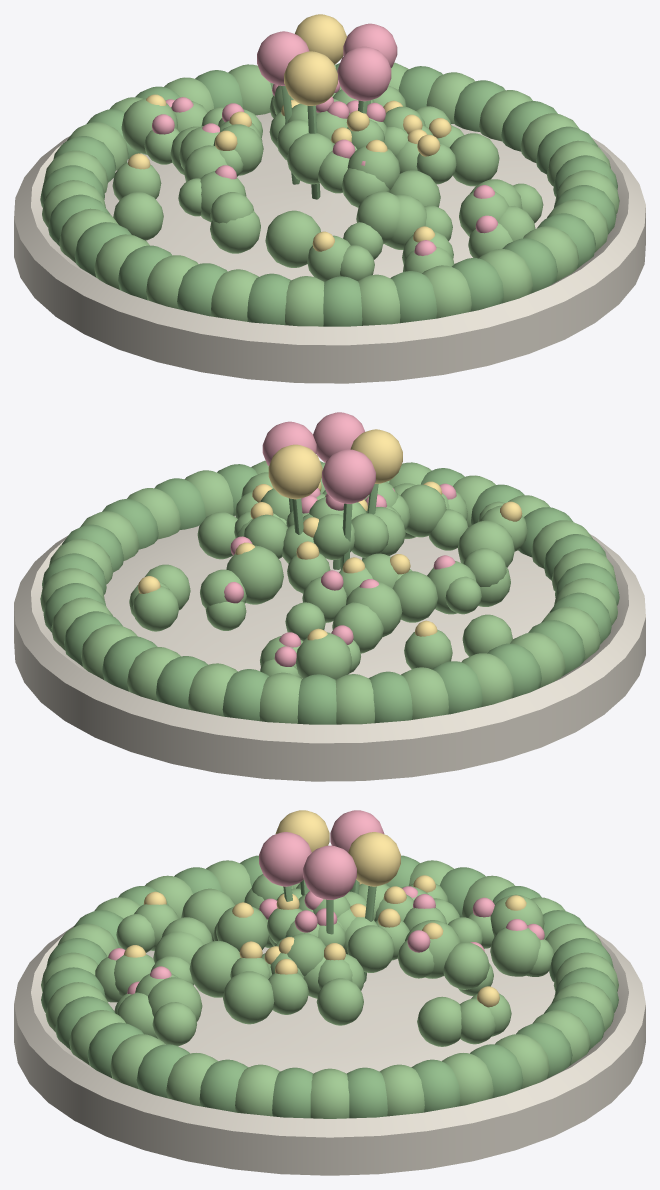
The model's file is th36_rondell.glb.
3 renders of one model, top to bottom at view 1: azimuth 30°, elevation 25°; view 2: azimuth 150°, elevation 25°; view 3: azimuth 270°, elevation 25°, orthographic.
Visible parts, largest first — view 1: Einfassung, Erde, Sphere.155, Sphere.154, Sphere.084, Sphere.144, Sphere.031, Sphere.030, Sphere.029, Sphere.032, Sphere.028, Sphere.033 (+72 smaller); view 2: Einfassung, Erde, Sphere.152, Sphere.153, Sphere.058, Sphere.046, Sphere.015, Sphere.016, Sphere.017, Sphere.014, Sphere.018, Sphere.013 (+65 smaller); view 3: Einfassung, Erde, Sphere.151, Sphere.152, Sphere.155, Sphere.144, Sphere.069, Sphere.103, Sphere, Sphere.138, Sphere.001, Sphere.045 (+67 smaller).
Boxes of the visible parts, x1=… form: Einfassung: x1=14, y1=136, x2=645, y2=383; Erde: x1=104, y1=112, x2=555, y2=280; Sphere.155: x1=337, y1=46, x2=391, y2=101; Sphere.154: x1=284, y1=51, x2=337, y2=105; Sphere.084: x1=265, y1=210, x2=320, y2=267; Sphere.144: x1=449, y1=133, x2=499, y2=186; Sphere.031: x1=323, y1=276, x2=362, y2=326; Sphere.030: x1=285, y1=276, x2=324, y2=326; Sphere.029: x1=247, y1=273, x2=291, y2=325; Sphere.032: x1=358, y1=274, x2=400, y2=325; Sphere.028: x1=211, y1=269, x2=258, y2=321; Sphere.033: x1=390, y1=271, x2=437, y2=323; Einfassung: x1=14, y1=534, x2=645, y2=781; Erde: x1=104, y1=515, x2=555, y2=678; Sphere.152: x1=268, y1=444, x2=322, y2=499; Sphere.153: x1=322, y1=449, x2=375, y2=503; Sphere.058: x1=226, y1=545, x2=283, y2=604; Sphere.046: x1=296, y1=632, x2=352, y2=679; Sphere.015: x1=297, y1=674, x2=336, y2=724; Sphere.016: x1=335, y1=674, x2=374, y2=724; Sphere.017: x1=368, y1=671, x2=412, y2=723; Sphere.014: x1=259, y1=672, x2=301, y2=723; Sphere.018: x1=401, y1=667, x2=448, y2=719; Sphere.013: x1=222, y1=669, x2=269, y2=721; Einfassung: x1=14, y1=926, x2=645, y2=1175; Erde: x1=108, y1=947, x2=555, y2=1073; Sphere.151: x1=303, y1=845, x2=356, y2=899; Sphere.152: x1=348, y1=832, x2=400, y2=886; Sphere.155: x1=259, y1=832, x2=311, y2=886; Sphere.144: x1=223, y1=971, x2=274, y2=1024; Sphere.069: x1=189, y1=941, x2=240, y2=997; Sphere.103: x1=490, y1=927, x2=540, y2=976; Sphere: x1=310, y1=1068, x2=349, y2=1118; Sphere.138: x1=417, y1=996, x2=461, y2=1046; Sphere.001: x1=347, y1=1067, x2=387, y2=1118; Sphere.045: x1=272, y1=1067, x2=312, y2=1118.
Size of the model in its own units: 3 by 1.12 by 3.
